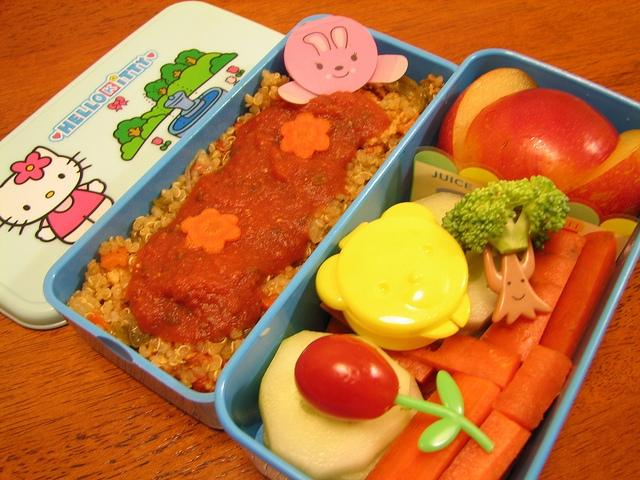apple: (463, 87, 621, 192), (438, 68, 540, 164), (564, 129, 638, 219)
broccoli: (442, 174, 570, 256)
carrot: (364, 371, 502, 480), (478, 230, 588, 366), (539, 232, 617, 360), (492, 344, 573, 431), (398, 335, 522, 389), (438, 410, 531, 480), (180, 208, 240, 254), (280, 112, 332, 160), (381, 348, 437, 386)
tomato: (295, 334, 494, 454)
